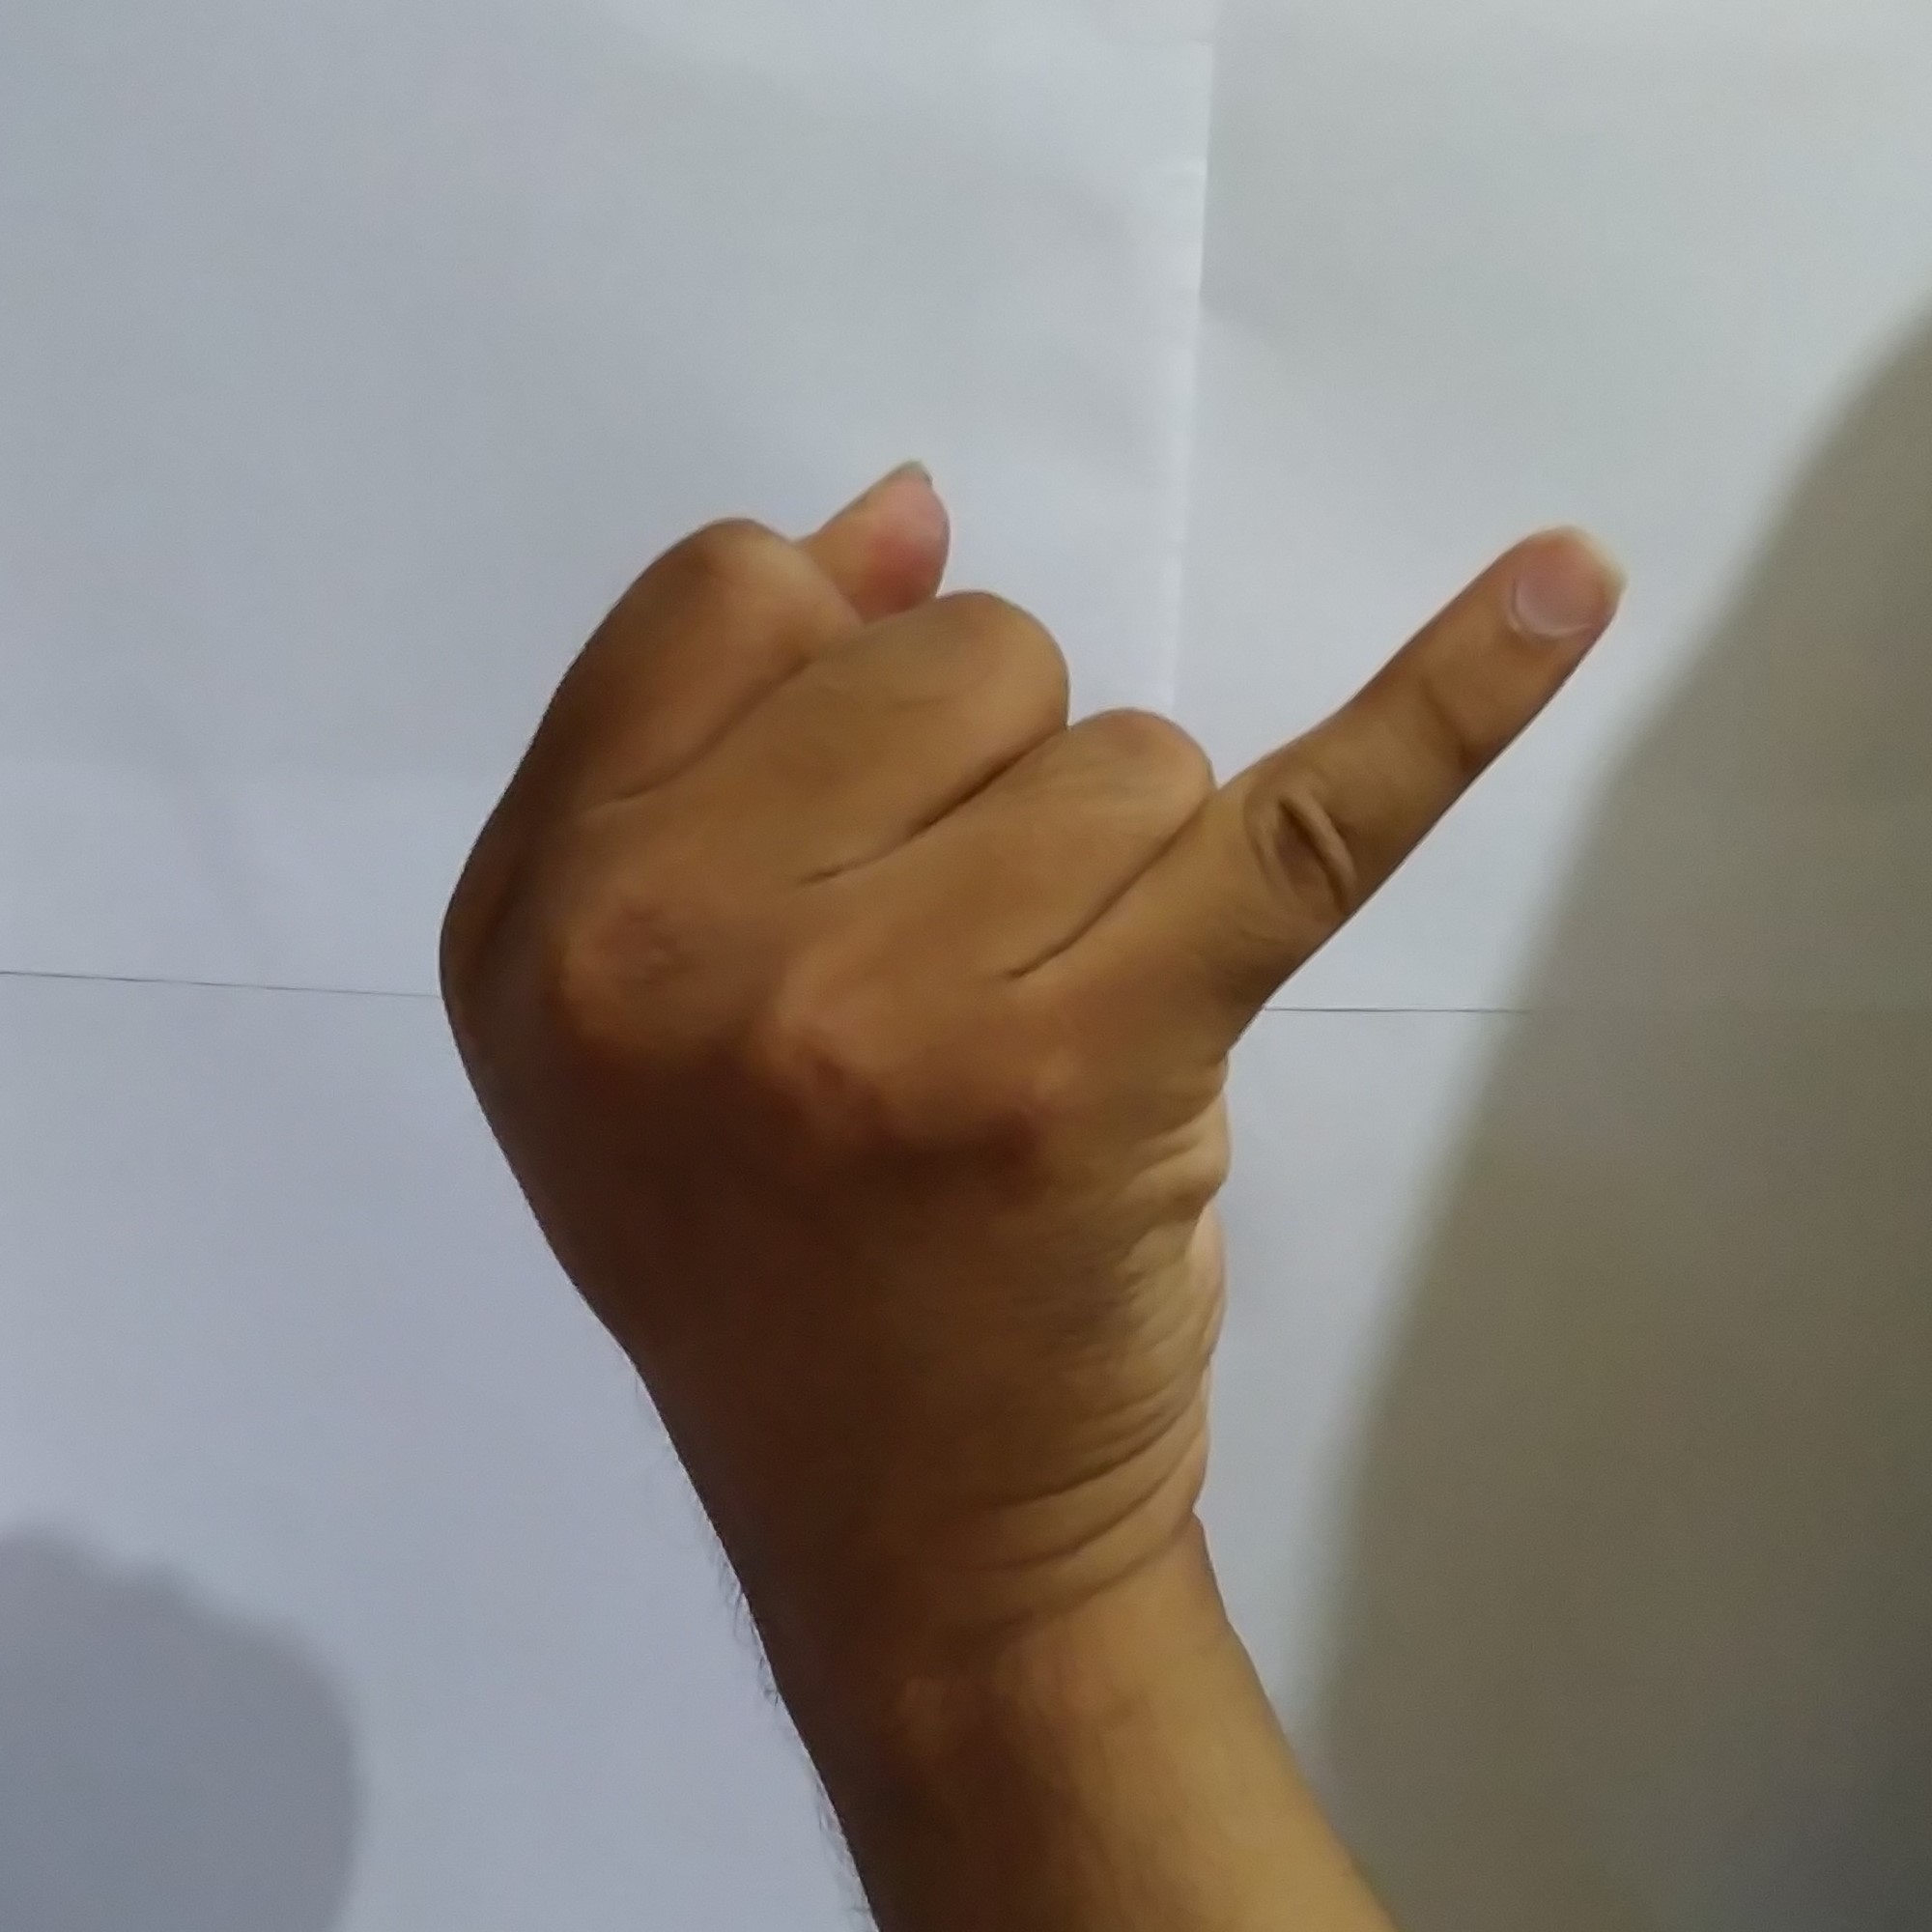J: (412, 437, 1647, 1495)
